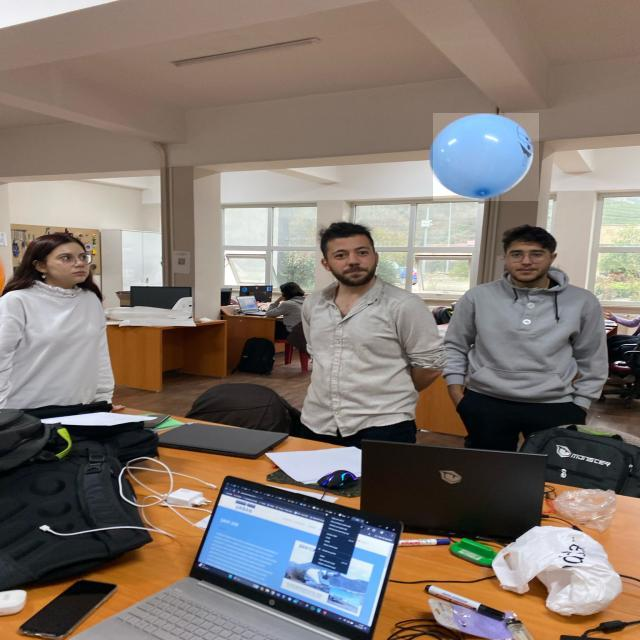balloon: (433, 113, 539, 201)
